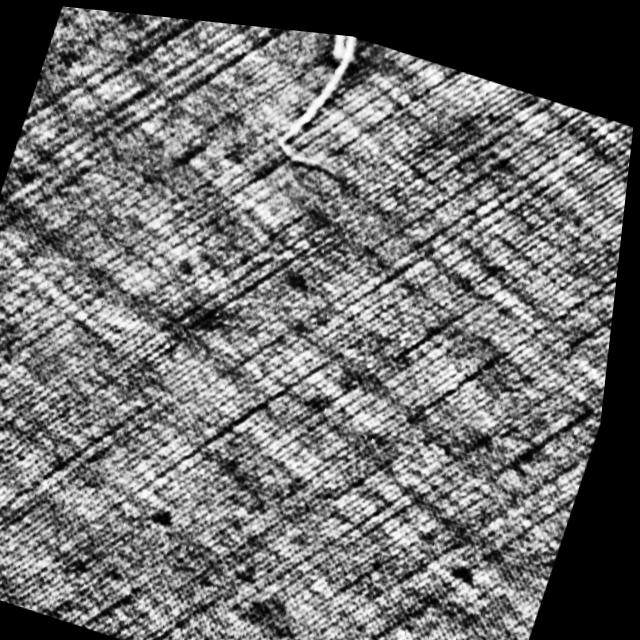Stitch: (251, 22, 393, 178)
